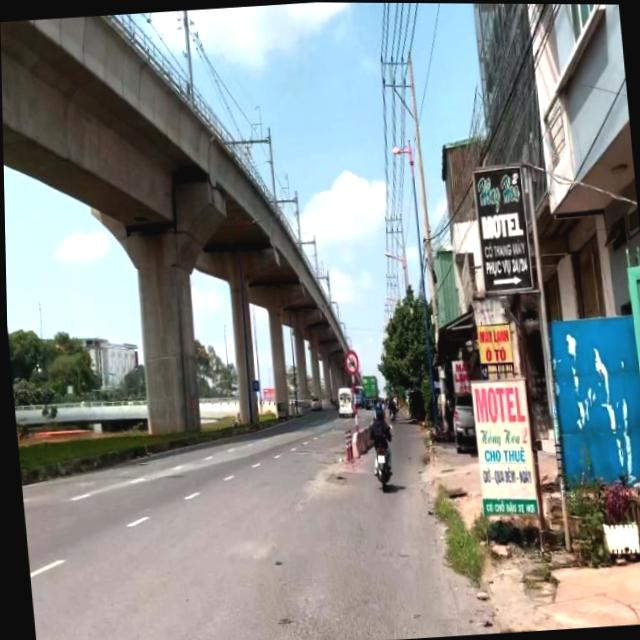Cho quay xe: (251, 379, 258, 390)
